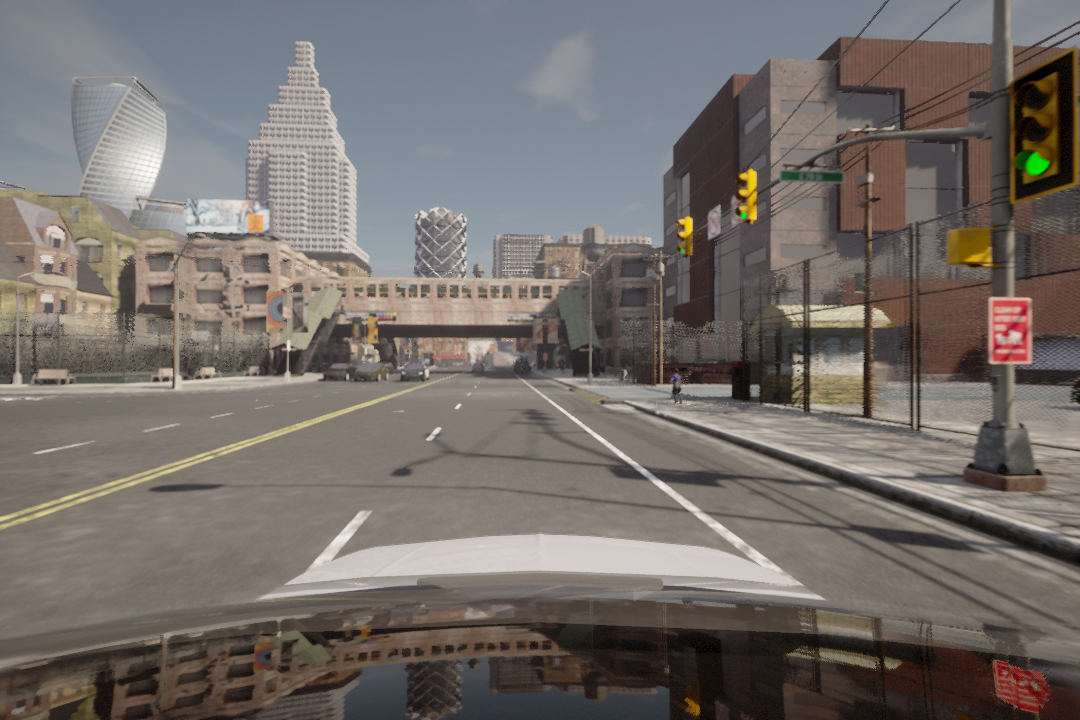TrafficLight: (1004, 51, 1074, 196), (735, 172, 757, 226), (676, 217, 695, 261), (707, 206, 724, 241)
